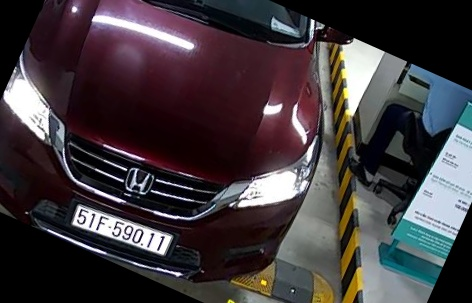plate: (74, 200, 176, 261)
